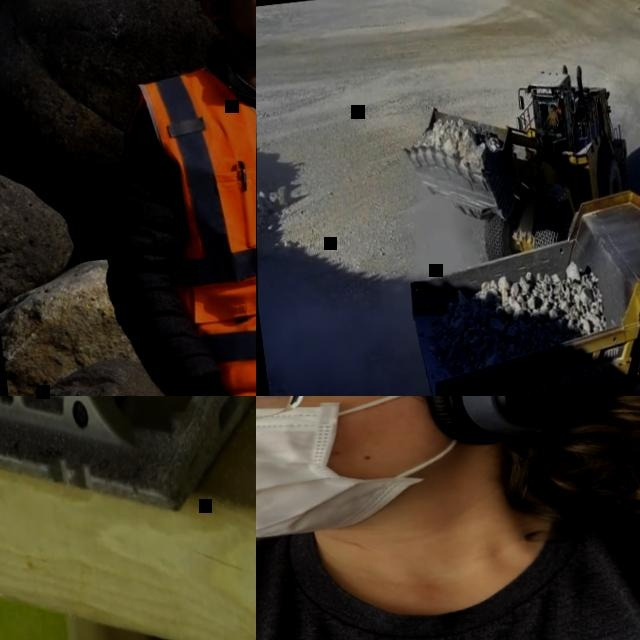Mask: (256, 396, 465, 553)
NO-Hardhat: (549, 102, 554, 107)
NO-Mask: (227, 0, 256, 49)
NO-Safety Vest: (256, 495, 640, 640), (548, 109, 556, 125)
Person: (256, 396, 640, 640), (59, 0, 256, 396), (545, 101, 559, 128)
Safety Vest: (116, 45, 256, 396)
machinery: (391, 49, 640, 292), (393, 174, 640, 396)
